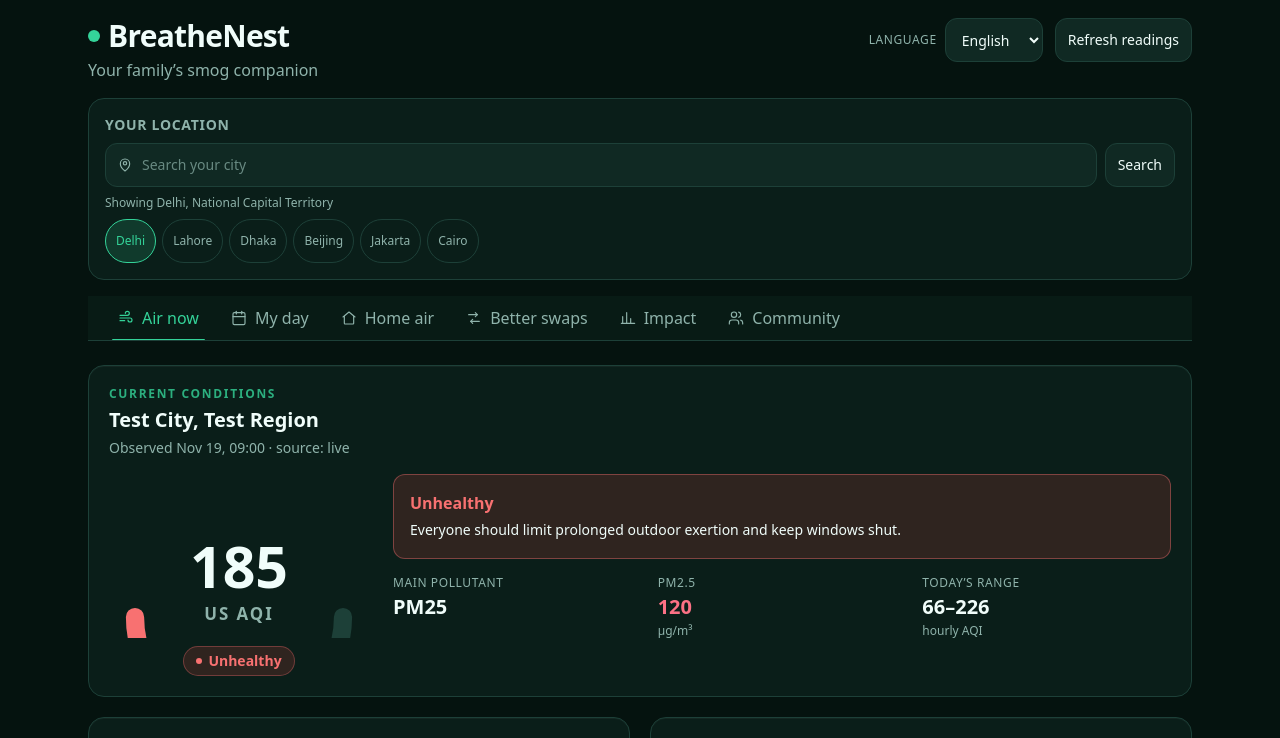
swaps → impact ledger › selects a swap and totals it on the impact tab
Step 1. Click the tab "Better swaps" → x=527, y=318, box [452,296,602,340]
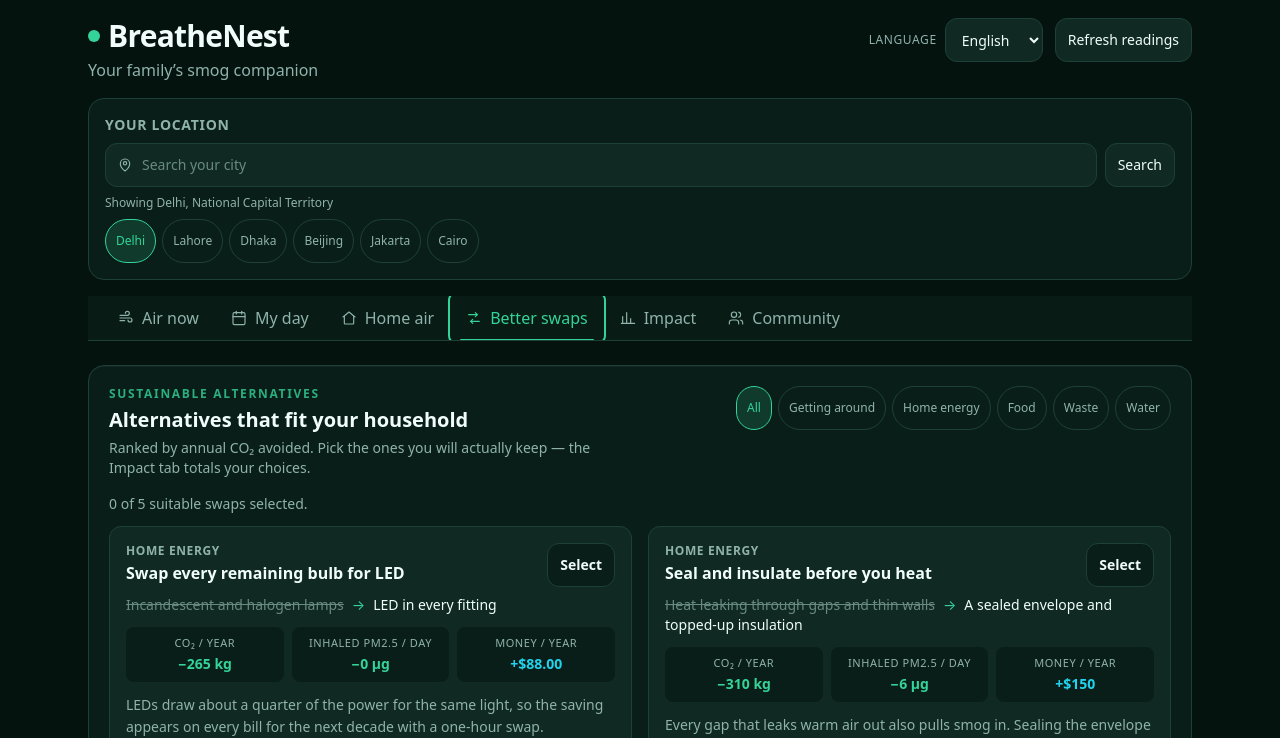
Check: the heading "Alternatives that fit your household" is shown, box [109,406,468,433]
Check: the button "Select" next to "Swap every remaining bulb for LED" is shown
Step 2. Click the button "Select" next to "Swap every remaining bulb for LED" → x=581, y=565, box [547,543,615,587]
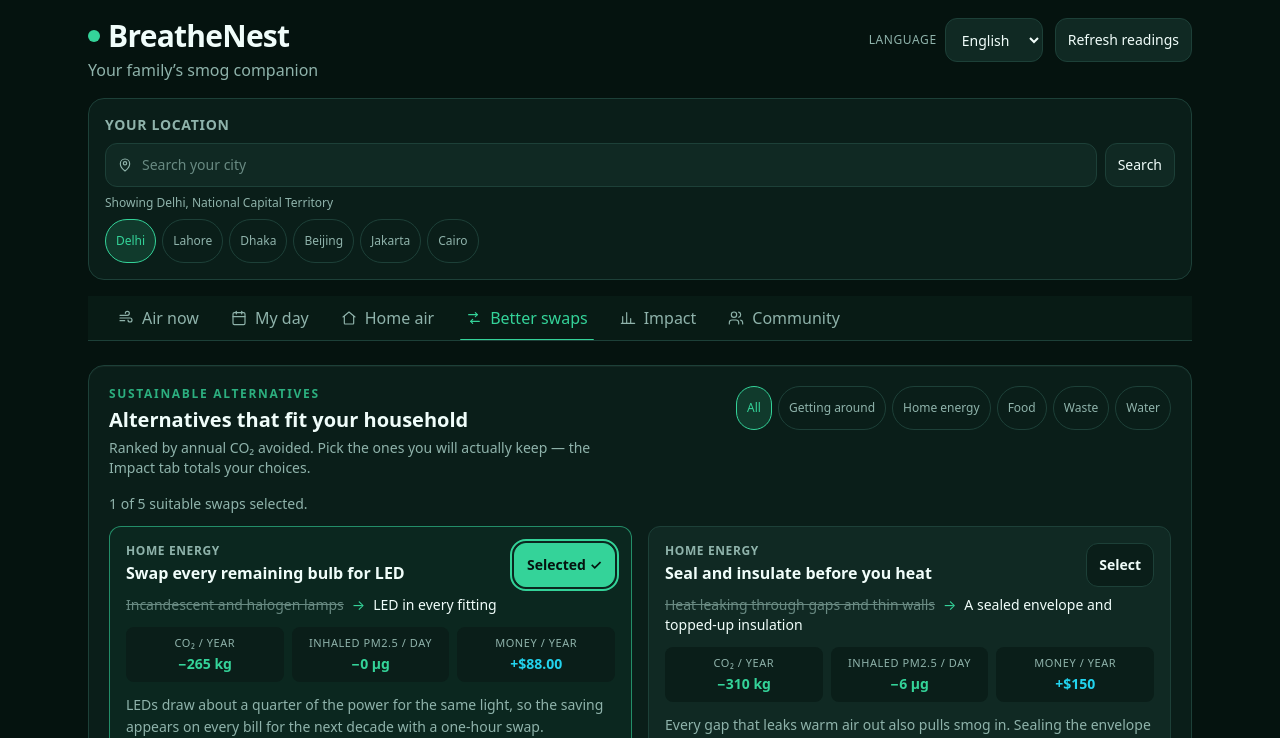
Check: the text "1 of 5 suitable swaps selected." is shown, box [109,494,308,513]
Step 3. Click the tab "Impact" → x=658, y=318, box [606,296,710,340]
(page scrolled)
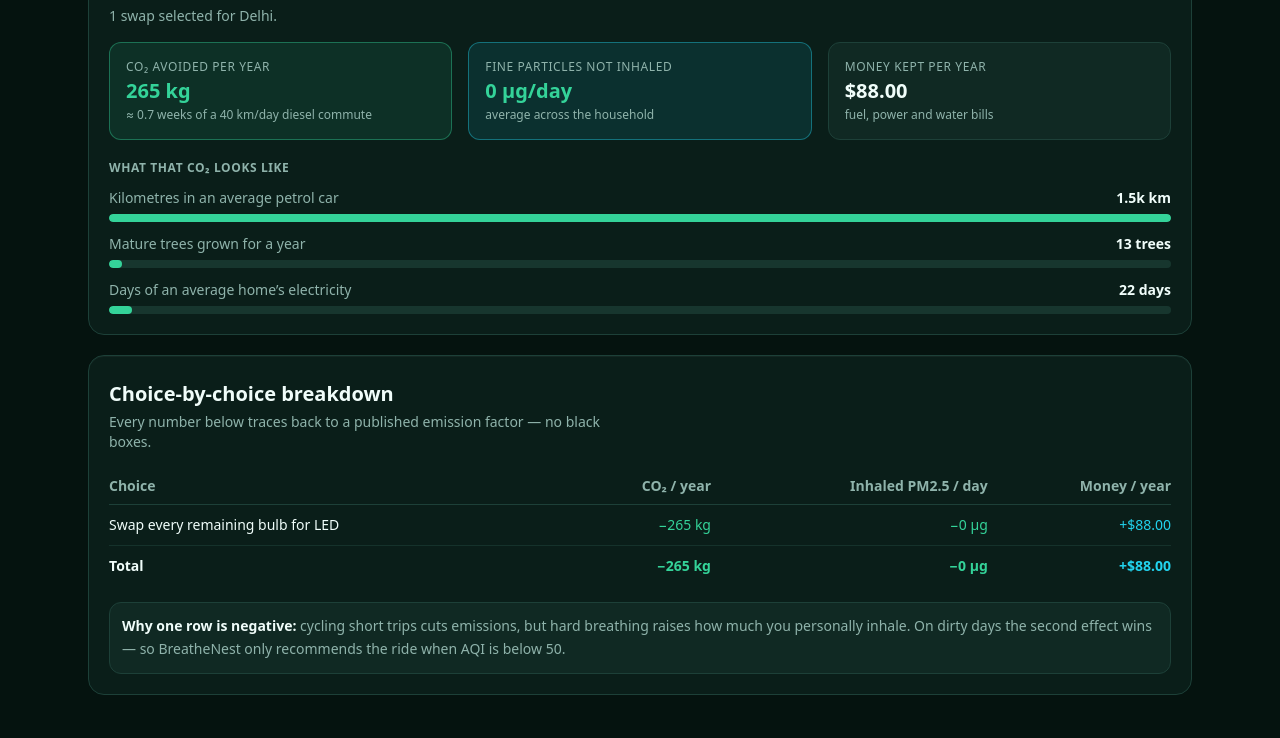
Check: the text "CO₂ avoided per year" is shown, box [126,58,270,75]
Check: the text "Money kept per year" is shown, box [845,58,986,75]
Check: the heading "Choice-by-choice breakdown" is shown, box [109,380,394,407]
